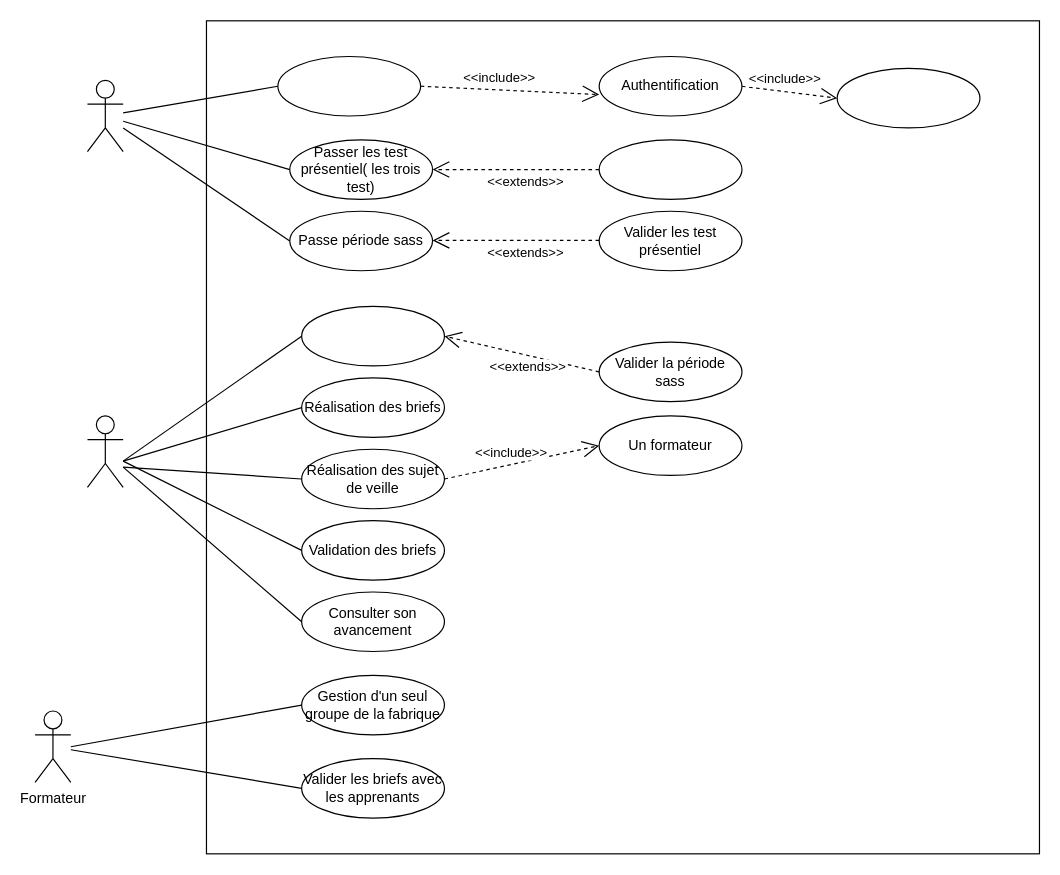
The diagram is 1060 pixels wide and 875 high, and some of its shapes have lost their labels. The shapes that lost their labels are listed below. From the top down, each one's box as (x1, y1, x2, y2) in pixels, then its label:
(277, 55, 421, 116): Passer le test en ligne
(836, 67, 980, 128): Inscrir
(86, 79, 123, 152): Le candidat
(598, 139, 742, 199): Valider le test en ligne
(300, 305, 444, 366): Passage pour être un apprenant
(86, 415, 123, 487): L'apprenant
